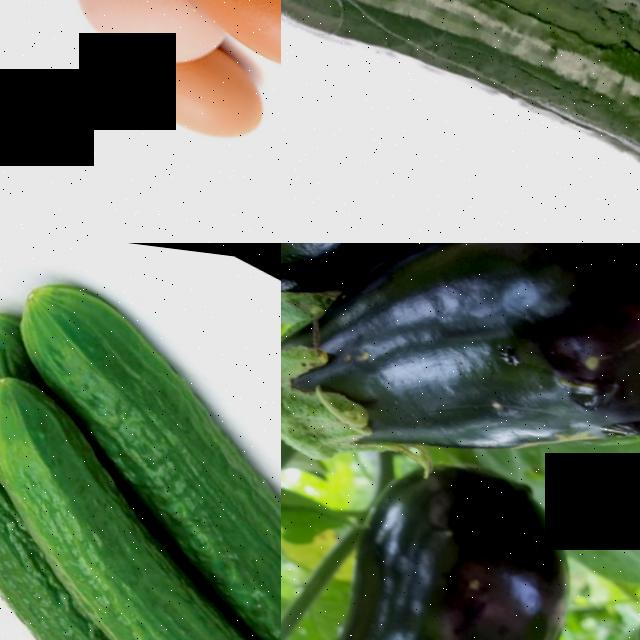cucumber: (281, 0, 640, 243), (0, 254, 281, 535), (0, 350, 237, 640)
egg_: (161, 27, 281, 156), (62, 0, 223, 71), (191, 0, 281, 91)
eggplant: (330, 243, 640, 545), (281, 396, 619, 640), (281, 243, 453, 371)
